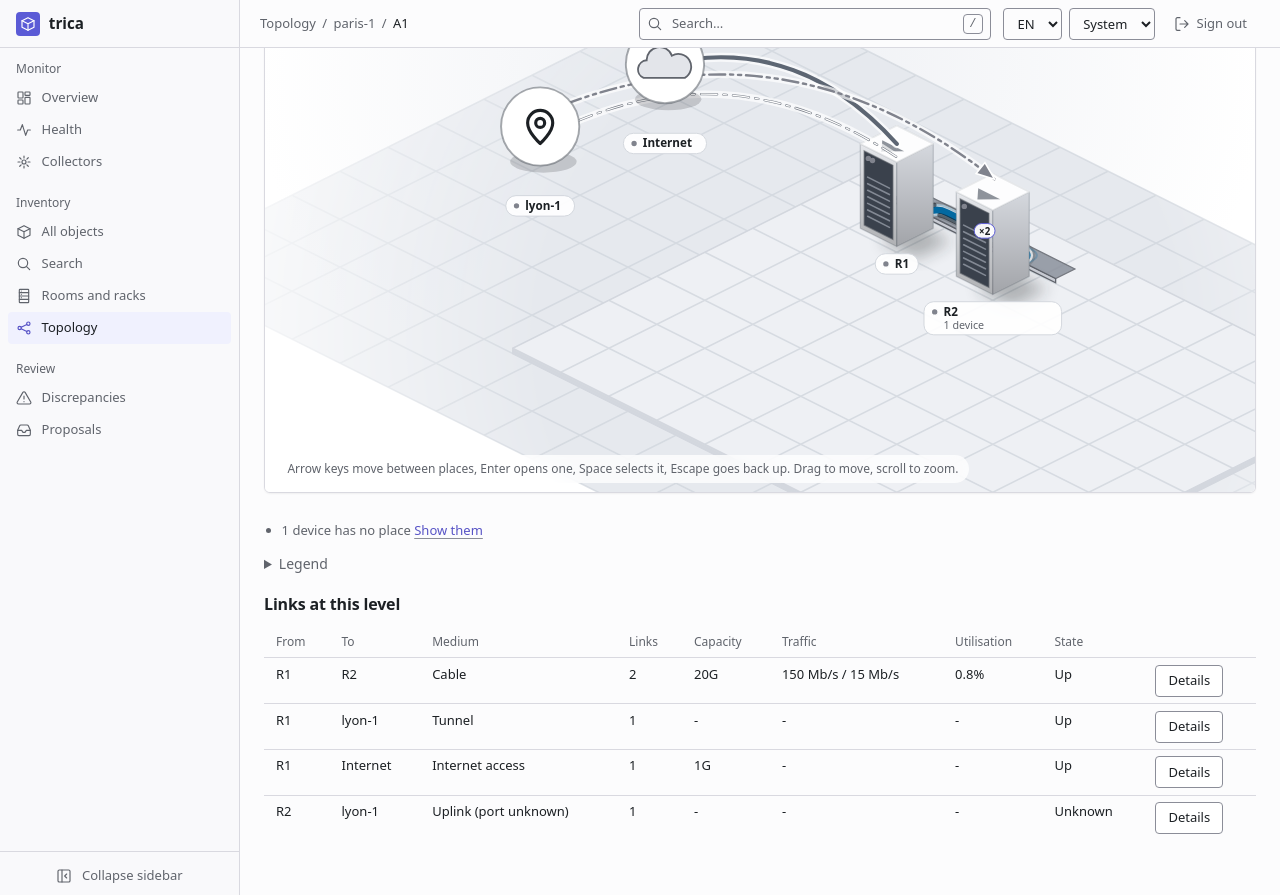
the topology map › lists the links of the level and opens one from the table
(page scrolled)
Click the button with aria-label "Details of the link".
click(1189, 681)  # box [1155,665,1223,697]
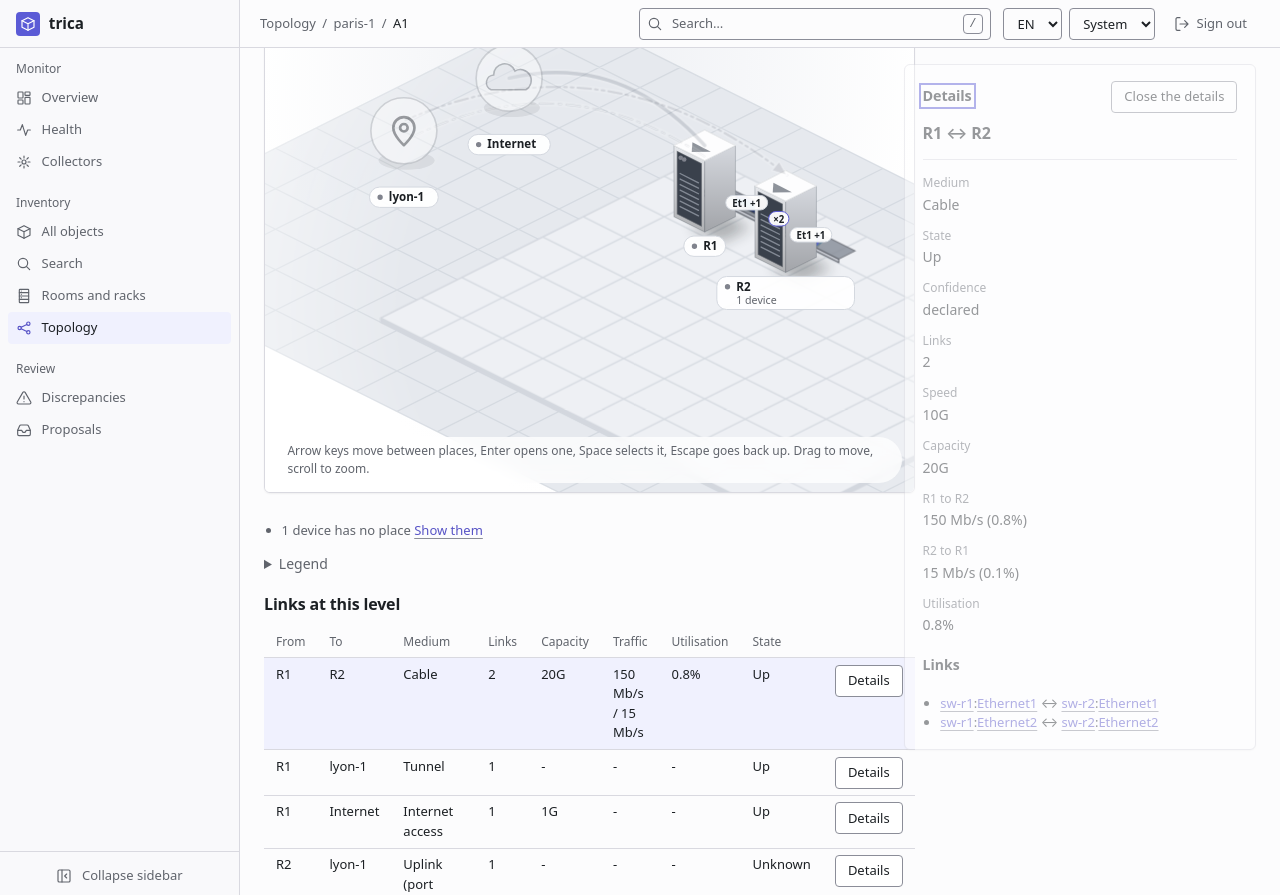
Check: the button "Close the details" is shown, box [1111,81,1237,113]
